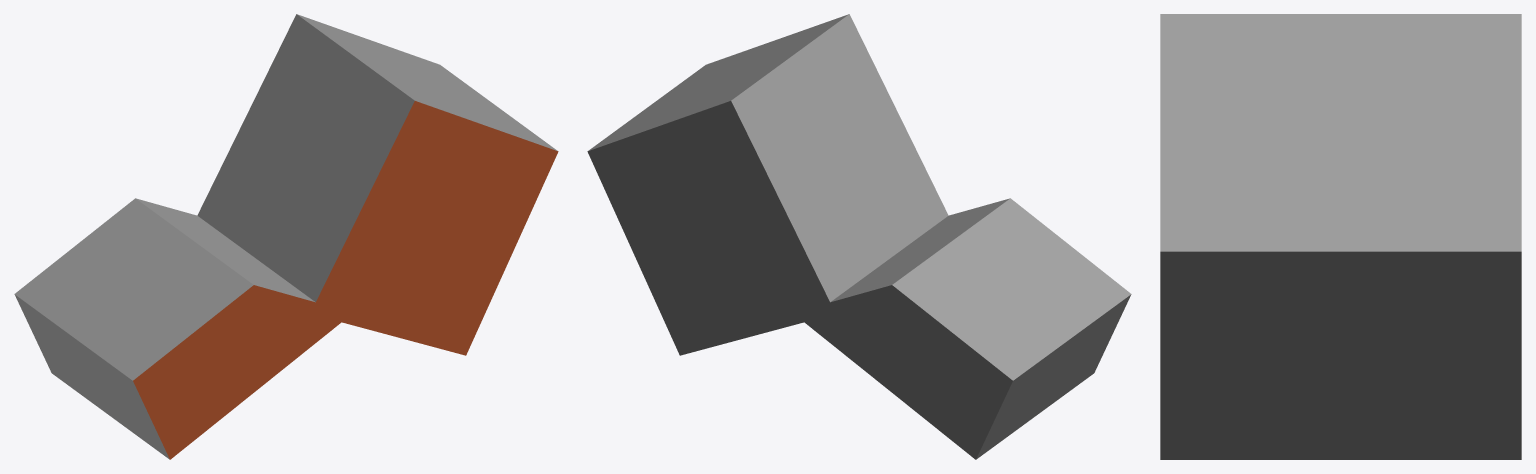
File: construction_0741_assumed_A_Casa_h6m.obj
The picture shows the model from 3 angles, left to right: view 1: azimuth 30°, elevation 25°; view 2: azimuth 150°, elevation 25°; view 3: azimuth 270°, elevation 25°; orthographic projection. The views are drawn at different scales.
Visible parts, largest first — view 1: construction_0741_assumed_A_Casa; view 2: construction_0741_assumed_A_Casa; view 3: construction_0741_assumed_A_Casa.
Part boxes in pixels (left/top/right/bottom): construction_0741_assumed_A_Casa: left=14, top=14, right=558, bottom=459; construction_0741_assumed_A_Casa: left=587, top=14, right=1131, bottom=459; construction_0741_assumed_A_Casa: left=1160, top=14, right=1521, bottom=459.
Bounding box in the file's own units: 12.45 × 8.37 × 6.
